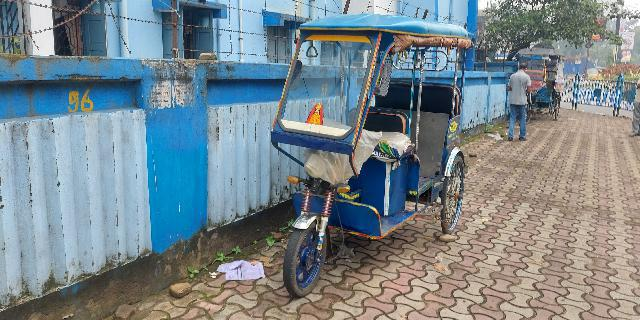Rickshaw: (272, 18, 468, 293)
